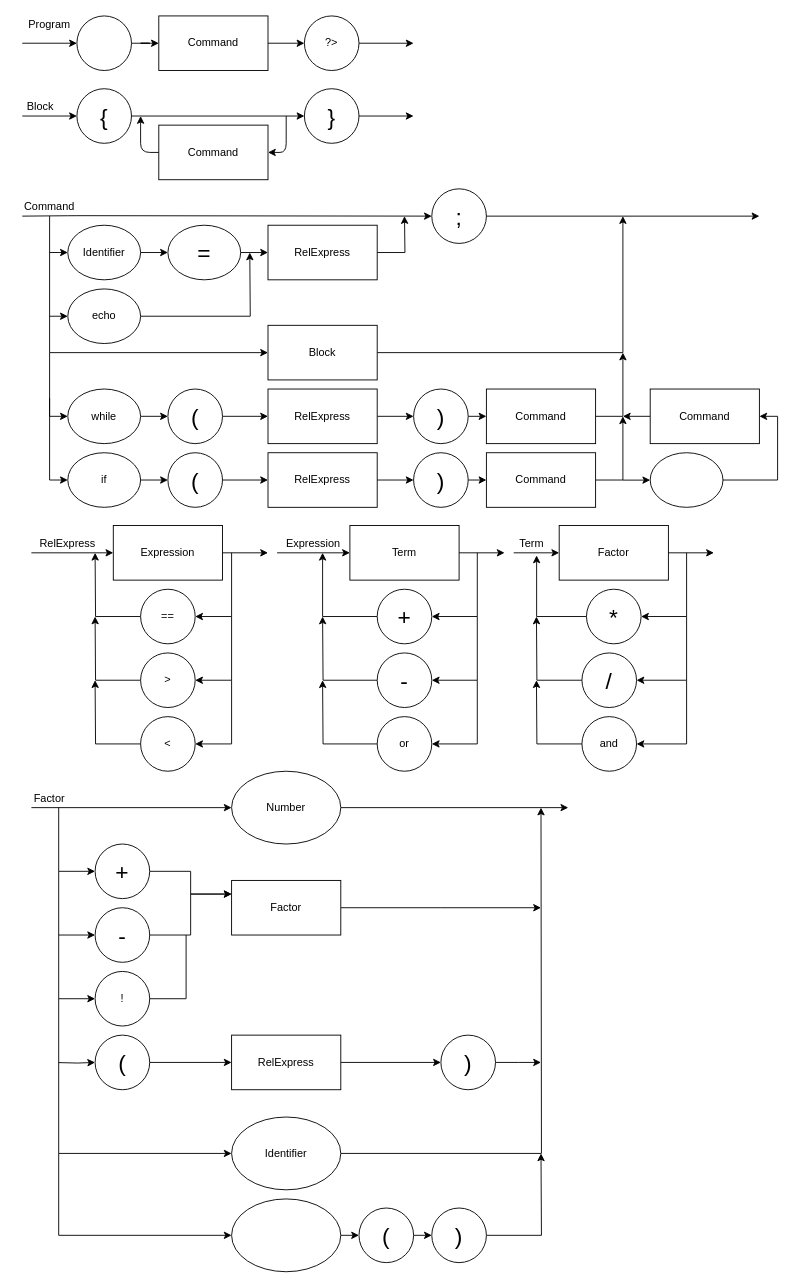
Image size: 801x1288. Some labels were removed from this diagram. Here are the shapes that lost their labels. From the top down, the centre of each, then its label:
At pixel 103 43: "<?php".
At pixel 686 479: "else".
At pixel 286 1235: "readline".
